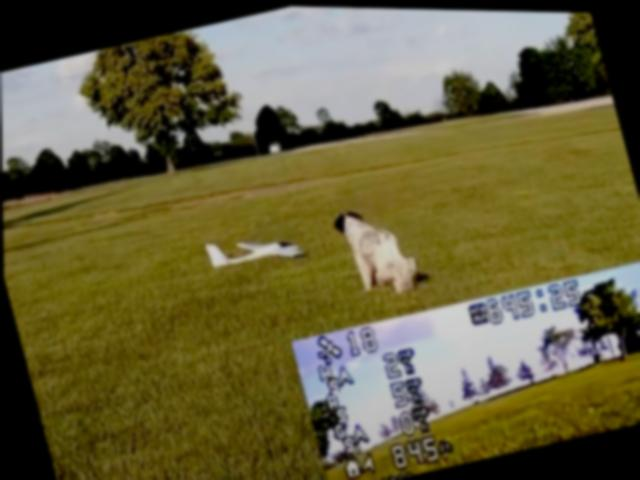iha: (204, 220, 302, 277)
